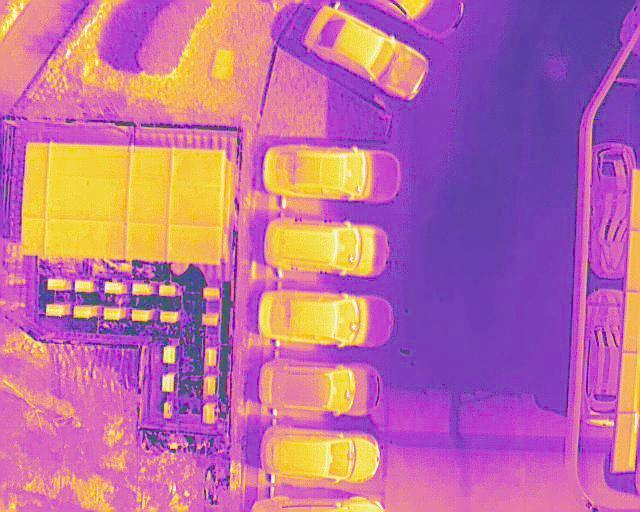Unclassified: (612, 414, 638, 472)
